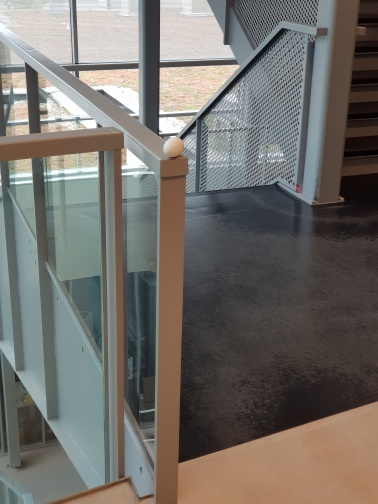egg: (161, 134, 189, 160)
